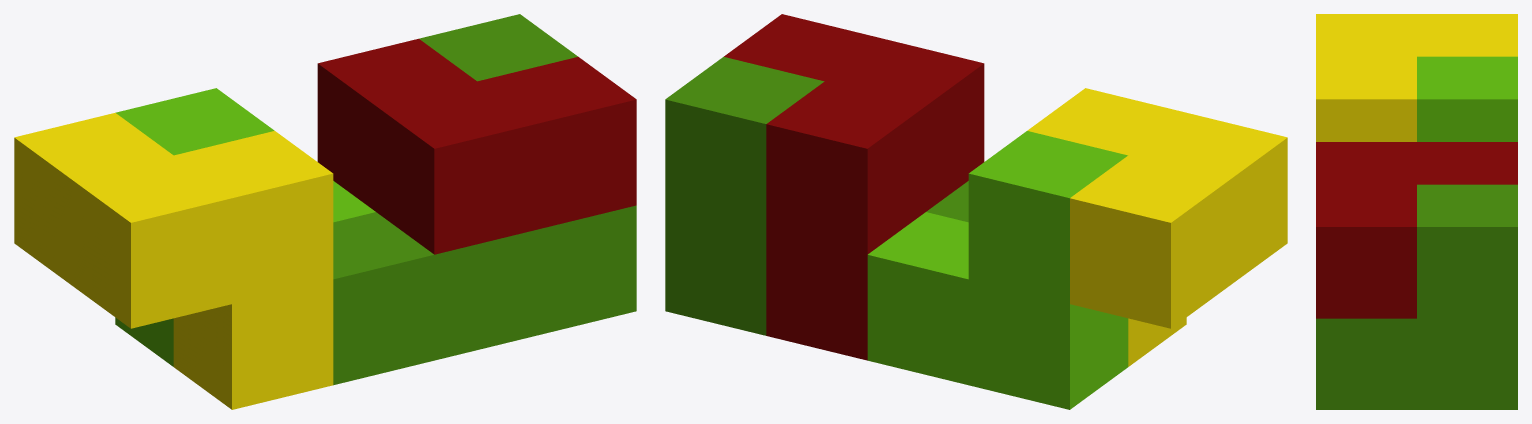
3 views of the same model, side by side, from view 1: azimuth 30°, elevation 25°; view 2: azimuth 150°, elevation 25°; view 3: azimuth 270°, elevation 25° (orthographic). The views are drawn at different scales.
Parts seen in each view (by area): view 1: mergedBlocks(Clone); view 2: mergedBlocks(Clone); view 3: mergedBlocks(Clone).
Part boxes in pixels (box(x1,y1,x2,y2)): mergedBlocks(Clone): box(14, 14, 636, 409); mergedBlocks(Clone): box(665, 14, 1287, 409); mergedBlocks(Clone): box(1316, 14, 1517, 409).
Bounding box in the file's own units: 5 × 2 × 2.
Materials: 4 (4 with a texture image).
